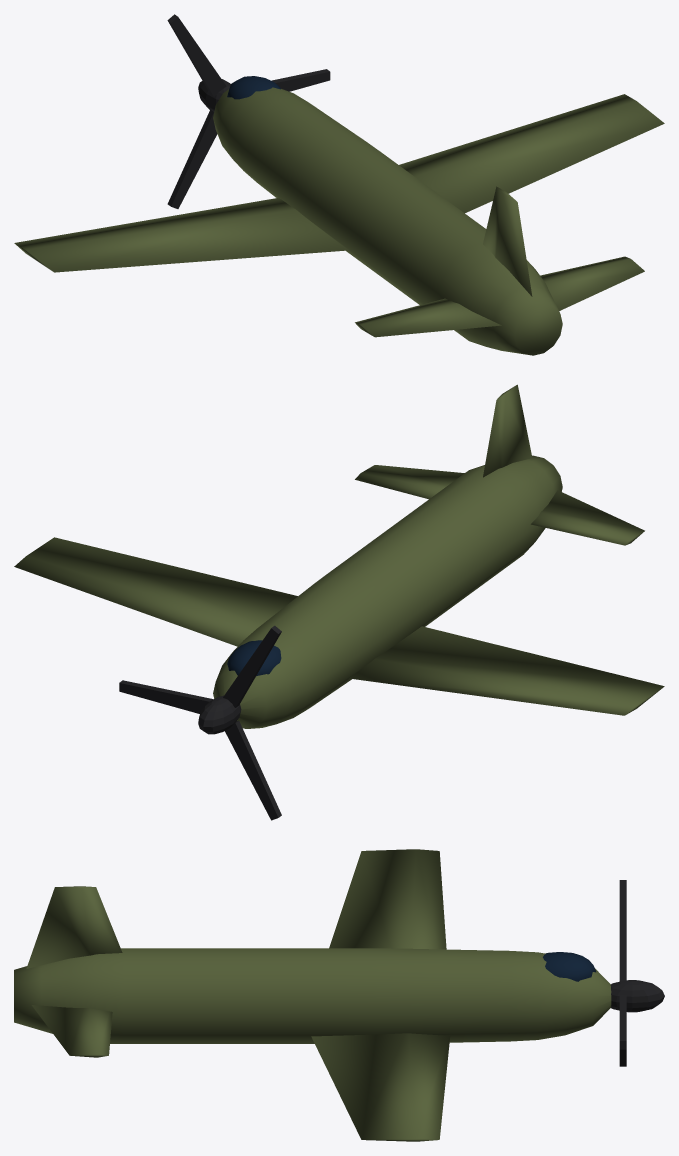
3 renders of one model, top to bottom at view 1: azimuth 30°, elevation 25°; view 2: azimuth 150°, elevation 25°; view 3: azimuth 270°, elevation 25°, orthographic. The views are drawn at different scales.
Parts seen in each view (by area): view 1: Body, Detail, Canopy; view 2: Body, Detail, Canopy; view 3: Body, Detail, Canopy.
Part boxes in pixels (bbox=[...]): Body: bbox=[14, 87, 664, 355]; Detail: bbox=[167, 14, 330, 208]; Canopy: bbox=[227, 76, 280, 99]; Body: bbox=[14, 384, 664, 728]; Detail: bbox=[119, 625, 281, 820]; Canopy: bbox=[227, 640, 281, 676]; Body: bbox=[14, 849, 611, 1141]; Detail: bbox=[610, 880, 664, 1066]; Canopy: bbox=[543, 952, 596, 981].
Size of the model in its own units: 12.4 by 4.05 by 11.8.
